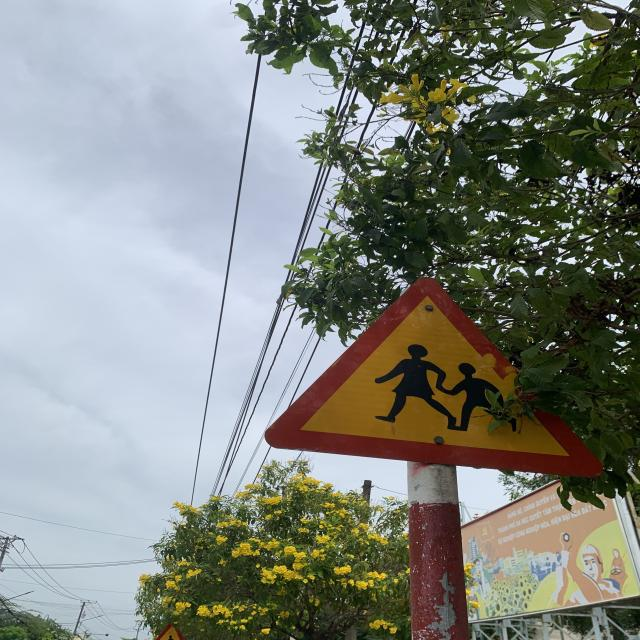Vong_Xuyen: (263, 274, 602, 482)
